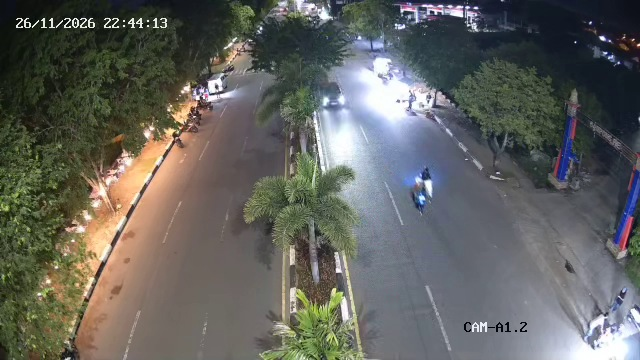Gerobak: (192, 72, 224, 99), (372, 56, 400, 81)
